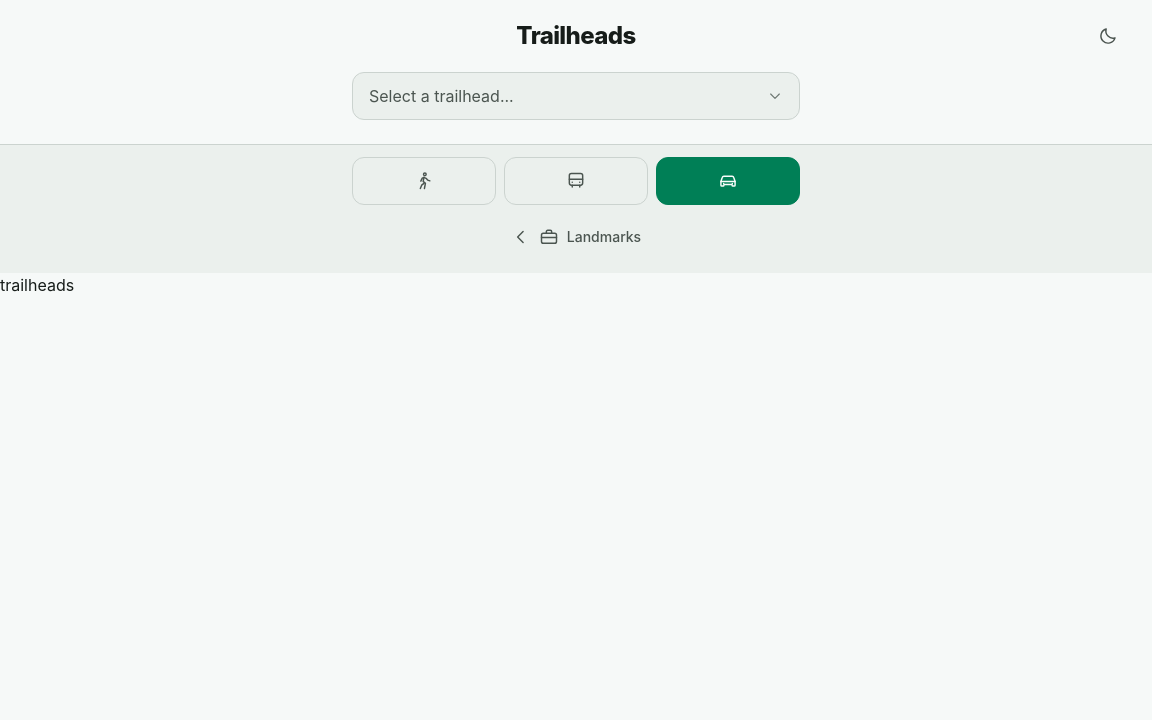
Test: TrailheadFinder › Picker › filters on entrance name as well as trailhead name
Click the button "Select a trailhead...".
click(441, 96)  # box left=352, top=72, right=800, bottom=120
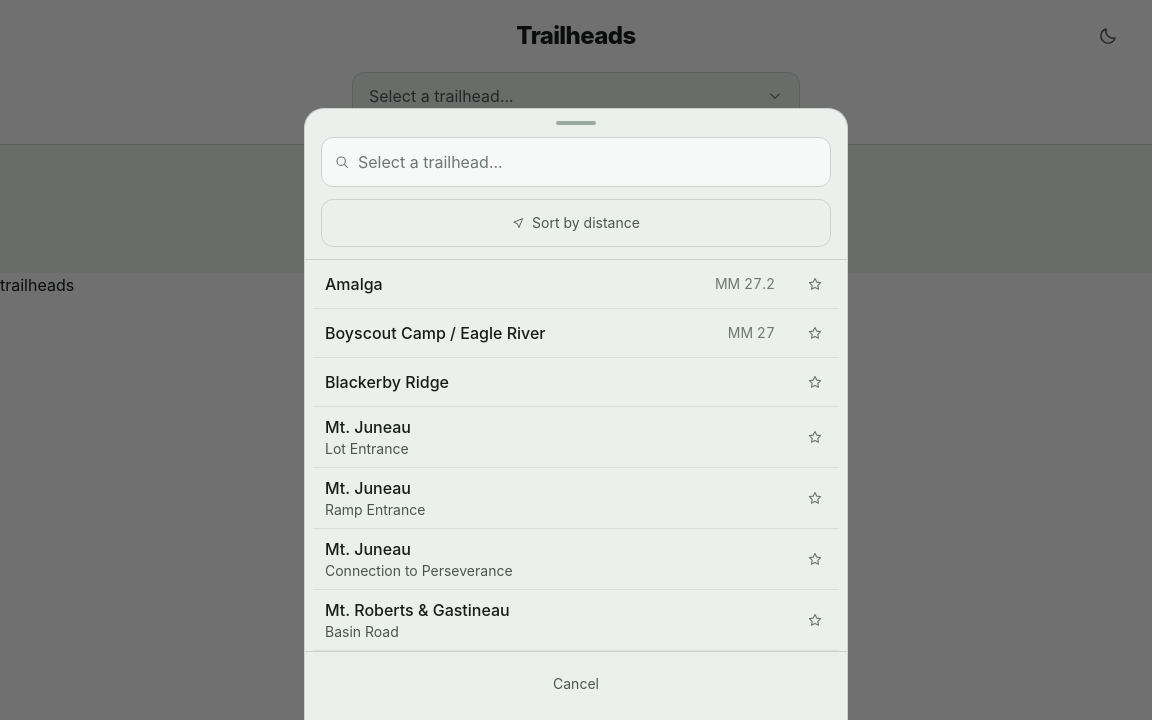
Type "blueberry" into the search field named "Search trailhead".
click(588, 162); type("blueberry")  # box left=358, top=138, right=818, bottom=186
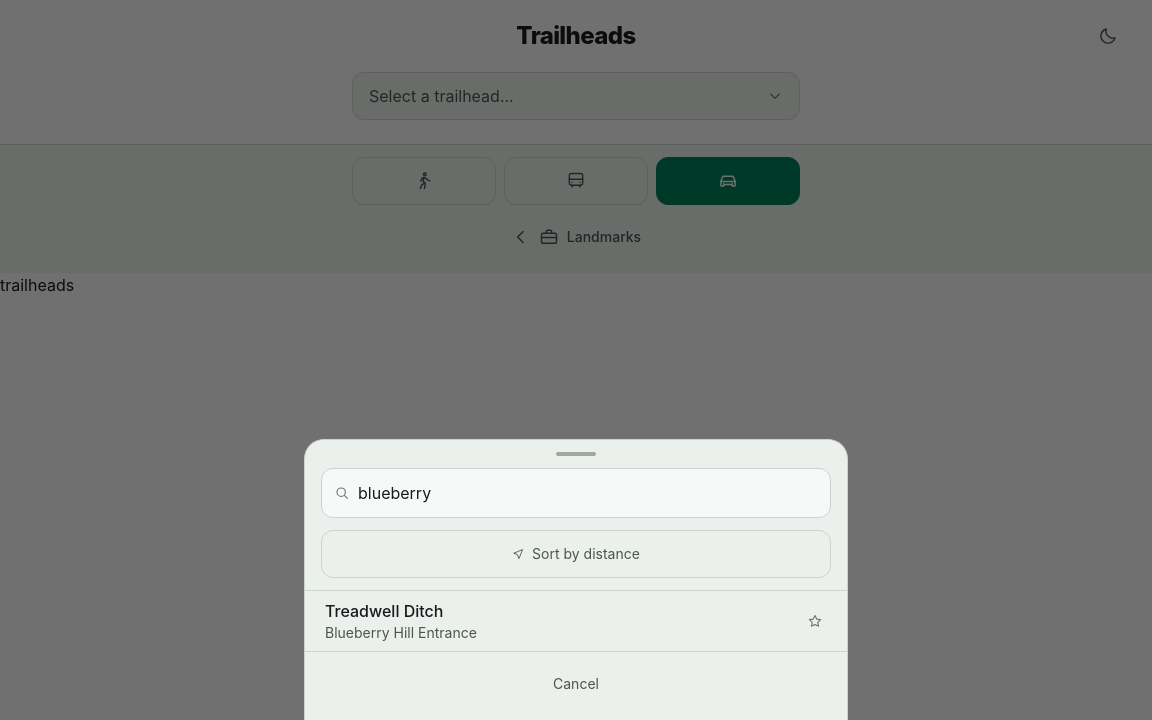
Expected: the button "Treadwell Ditch Blueberry Hill Entrance" is shown, left=313, top=591, right=787, bottom=651
Expected: the button "Amalga" is gone
